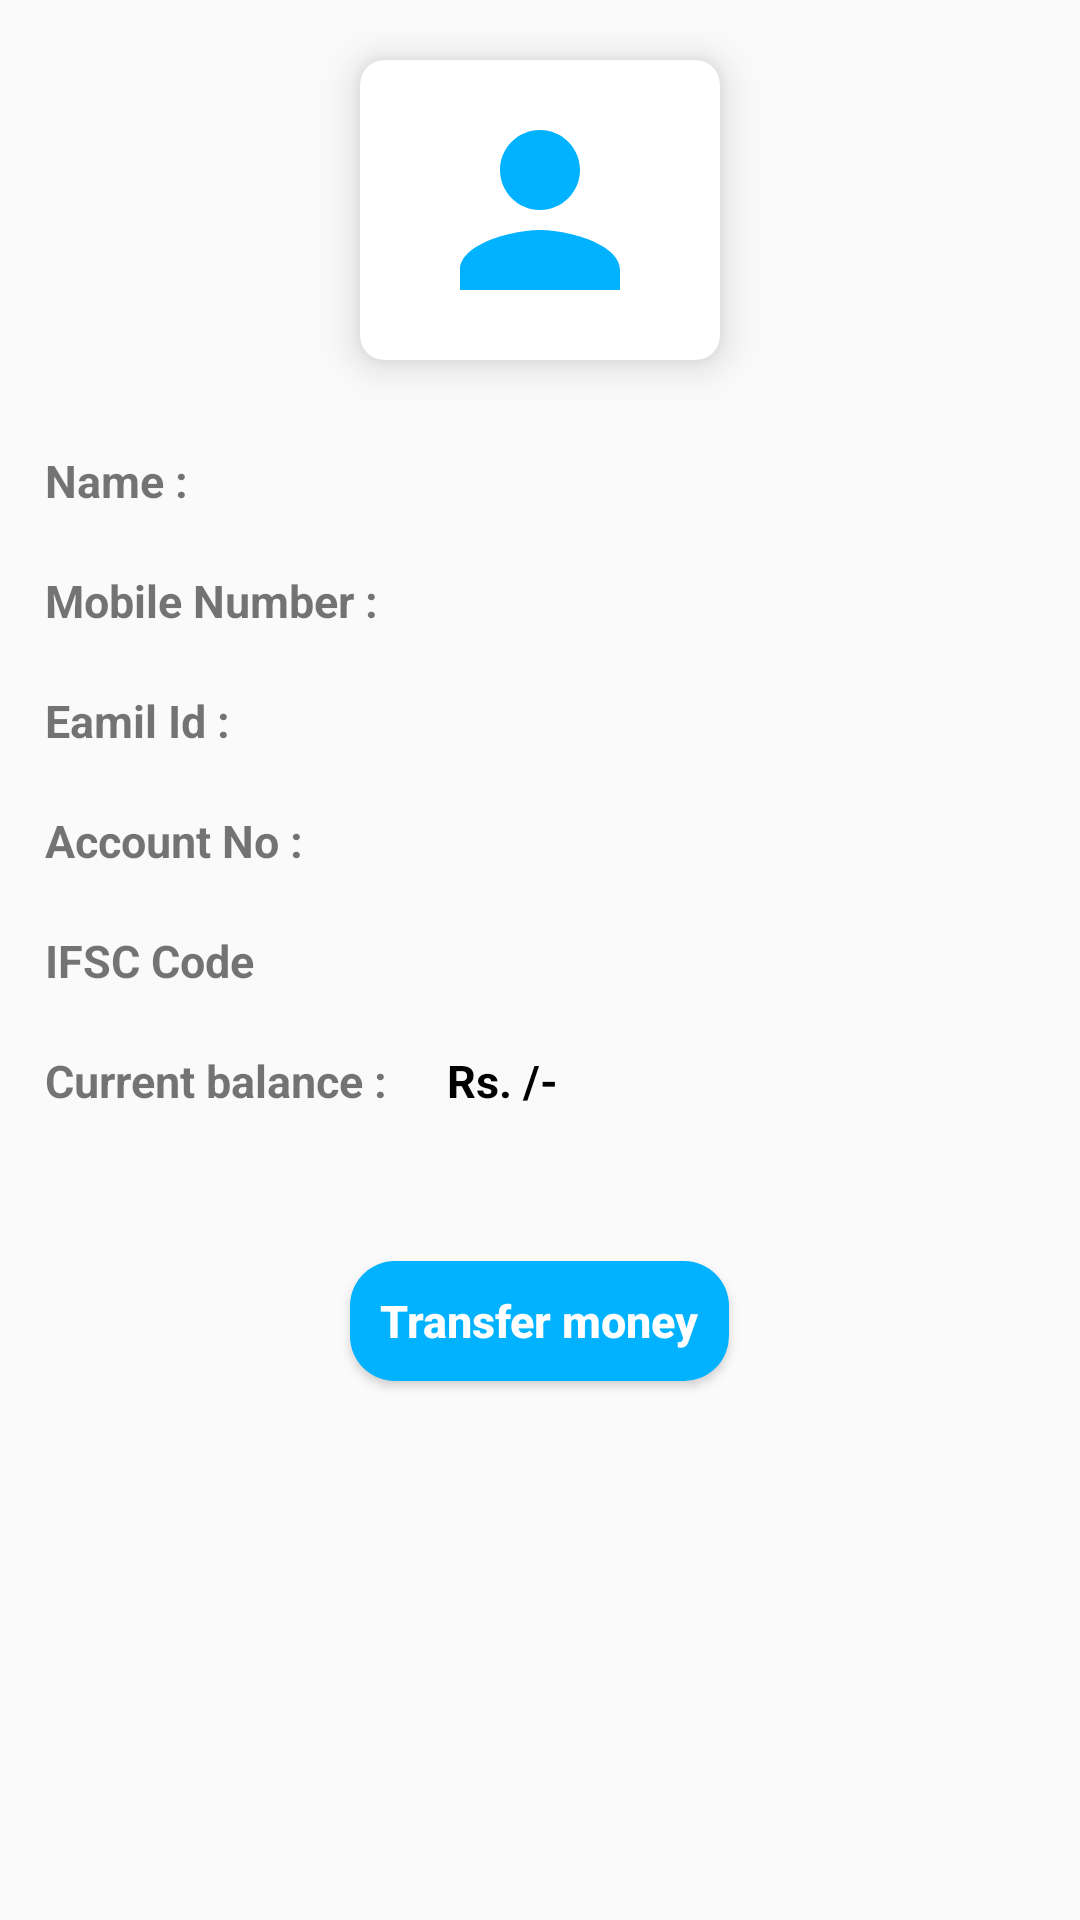

Icons on this 1080 x 1920 Android screen, each with the point to tap as point (x, y):
user: point (540, 210)
